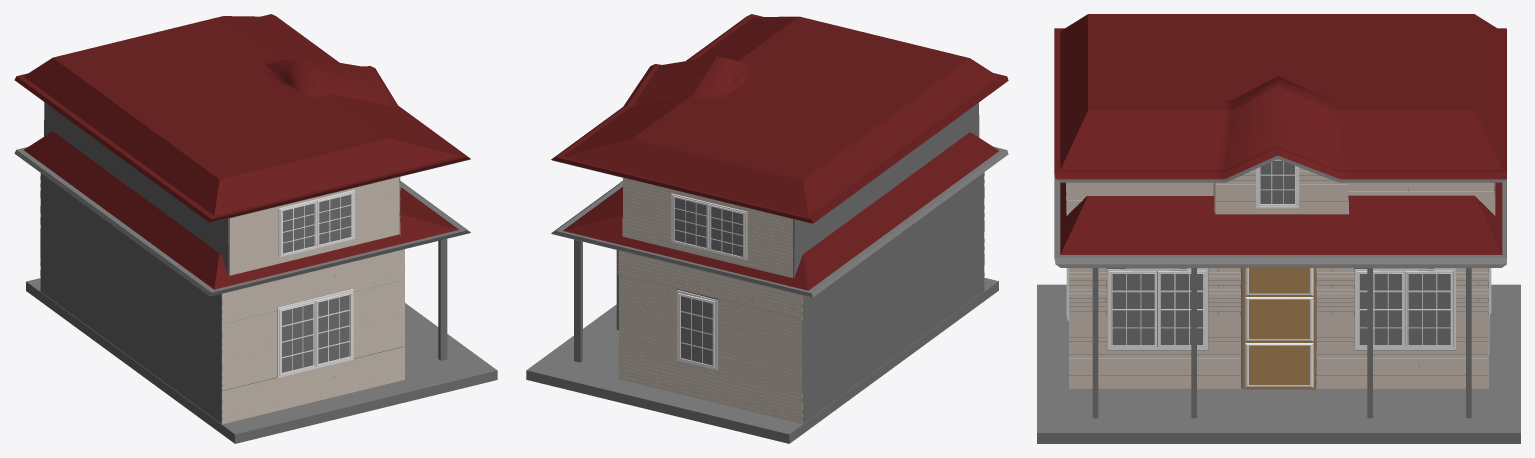
The model's file is house.obj.
3 renders of one model, left to right at view 1: azimuth 30°, elevation 25°; view 2: azimuth 150°, elevation 25°; view 3: azimuth 270°, elevation 25°, orthographic. The views are drawn at different scales.
Parts seen in each view (by area): view 1: pCube10, pCube1, pCube2, pCube5, polySurface43, polySurface46, polySurface42, pCube4, polySurface47, polySurface48, polySurface45, polySurface44 (+2 smaller); view 2: pCube10, pCube1, pCube2, pCube5, polySurface53, polySurface26, polySurface29, pCube4, polySurface28, polySurface27, polySurface16 polySurface23, pCube6 (+1 smaller); view 3: pCube10, pCube5, pCube2, pCube1, polySurface3 polySurface1, polySurface25, polySurface35, polySurface38, polySurface30, polySurface16 polySurface31, polySurface16 polySurface18, polySurface16 polySurface22 (+17 smaller).
Part boxes in pixels (box(x1,y1,x2,y2)): pCube10: box(14, 14, 470, 222); pCube1: box(40, 173, 404, 423); pCube2: box(14, 131, 470, 296); pCube5: box(26, 278, 497, 443); polySurface43: box(222, 346, 405, 424); polySurface46: box(222, 249, 405, 324); polySurface42: box(277, 289, 353, 377); pCube4: box(44, 102, 397, 275); polySurface47: box(278, 190, 354, 257); polySurface48: box(230, 201, 399, 275); polySurface45: box(222, 280, 405, 357); polySurface44: box(222, 313, 405, 390); pCube10: box(551, 14, 1008, 223); pCube1: box(620, 172, 984, 423); pCube2: box(551, 132, 1008, 297); pCube5: box(526, 277, 998, 443); polySurface53: box(623, 178, 792, 277); polySurface26: box(618, 346, 802, 424); polySurface29: box(718, 299, 802, 390); pCube4: box(793, 102, 979, 277); polySurface28: box(618, 250, 802, 319); polySurface27: box(619, 275, 676, 360); polySurface16 polySurface23: box(678, 293, 714, 368); pCube6: box(574, 239, 582, 362); pCube10: box(1054, 14, 1506, 182); pCube5: box(1037, 284, 1520, 443); pCube2: box(1054, 173, 1506, 267); pCube1: box(1069, 268, 1488, 388); polySurface3 polySurface1: box(1242, 268, 1316, 389); polySurface25: box(1316, 350, 1488, 388); polySurface35: box(1215, 176, 1349, 214); polySurface38: box(1066, 182, 1213, 215); polySurface30: box(1348, 182, 1494, 195); polySurface16 polySurface31: box(1258, 159, 1296, 206); polySurface16 polySurface18: box(1405, 270, 1453, 347); polySurface16 polySurface22: box(1109, 271, 1157, 347).
Bounding box in the file's own units: 8.05 × 7.33 × 10.4.
